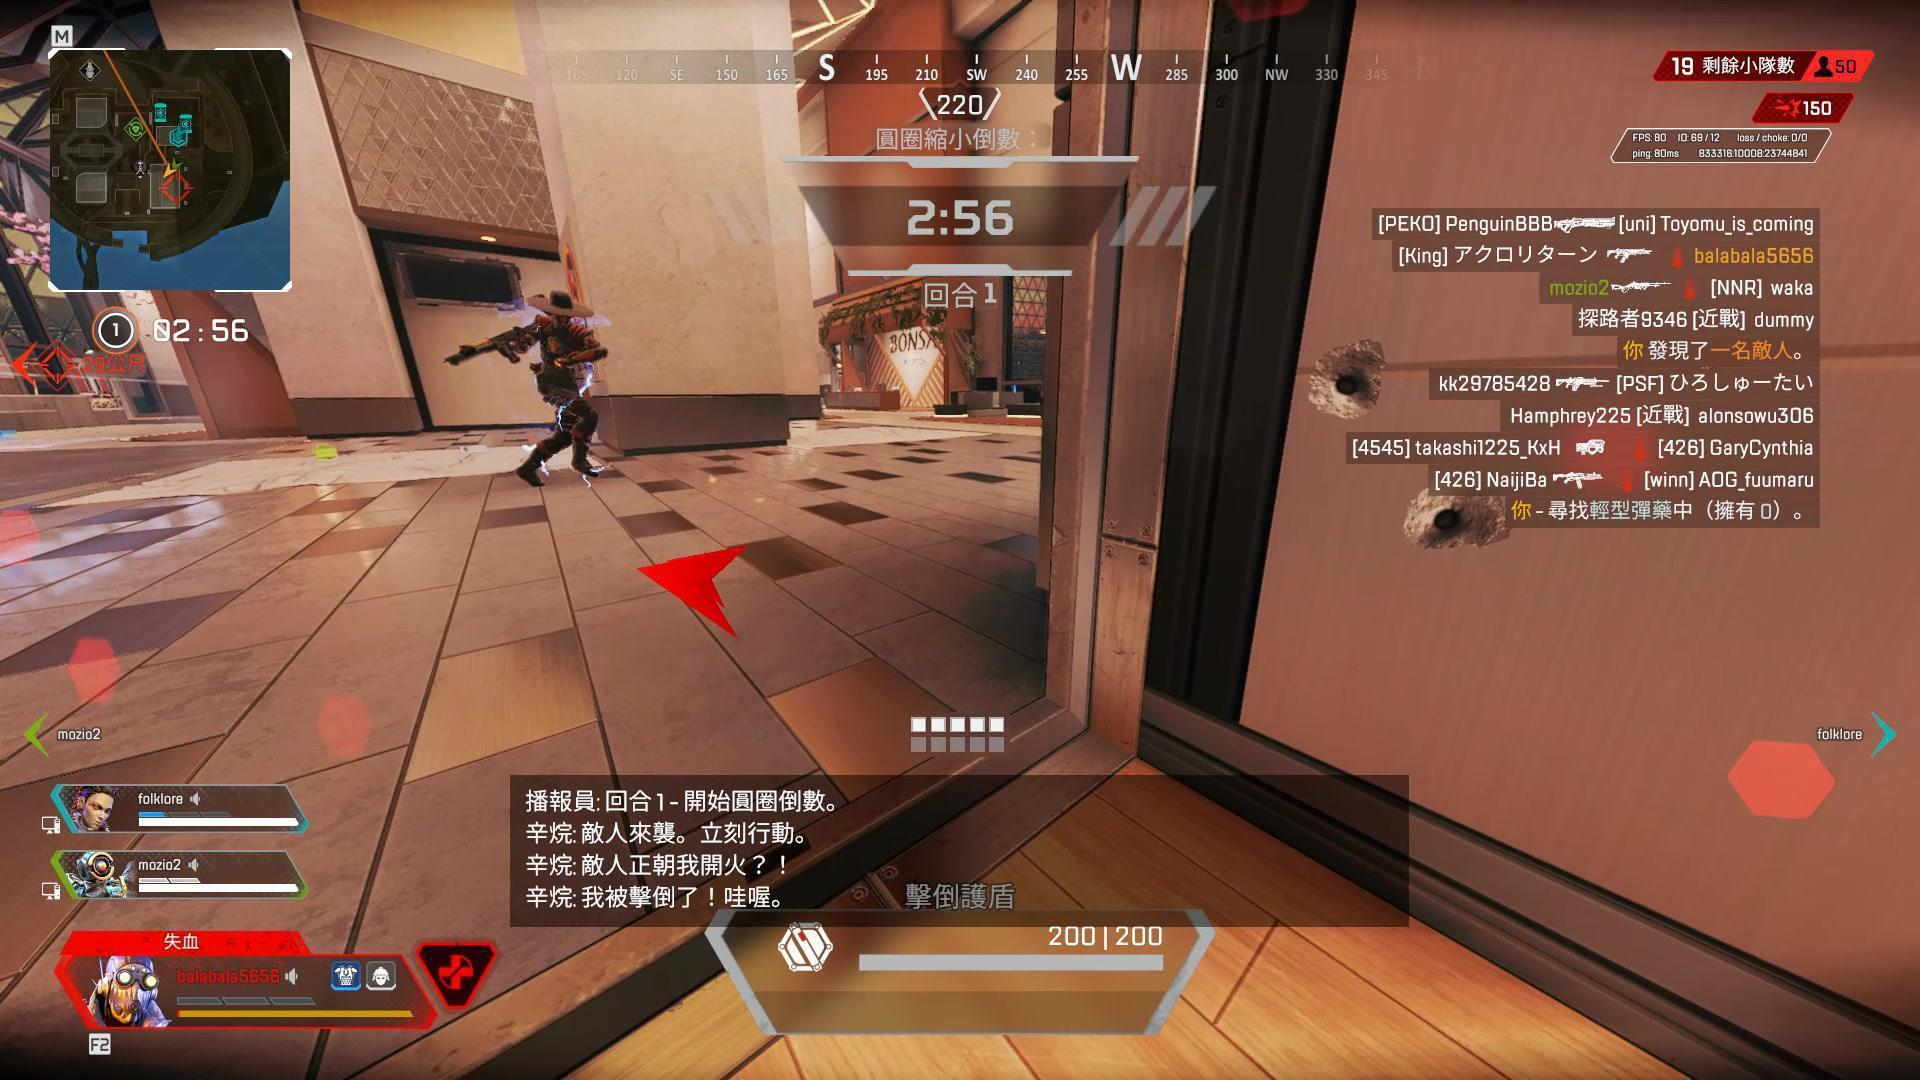avatar: (514, 287, 611, 491)
